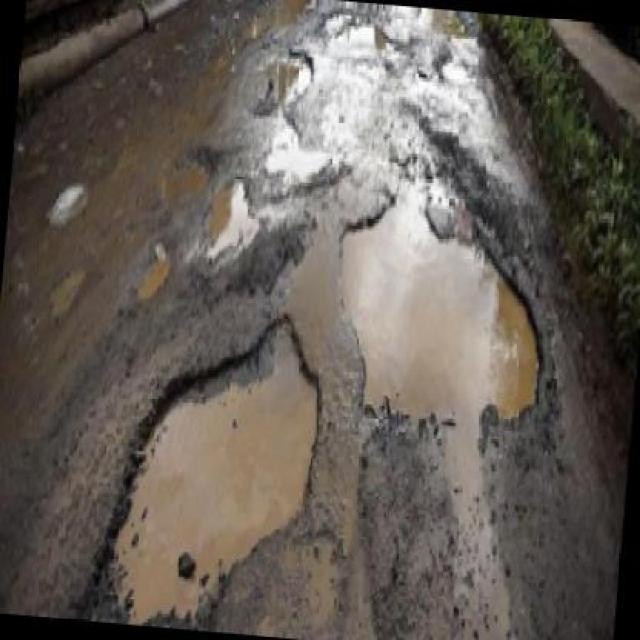pothole: (74, 290, 332, 633), (324, 172, 559, 437), (193, 167, 261, 265), (160, 134, 218, 206), (268, 37, 320, 114), (130, 238, 176, 307), (334, 10, 398, 48), (439, 41, 476, 85)
